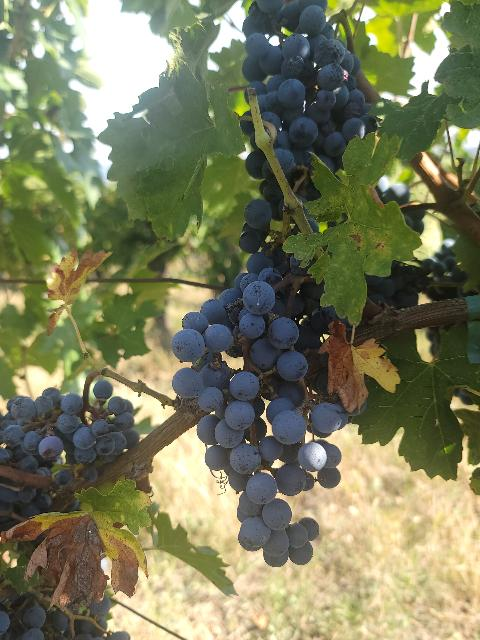grapes: (172, 280, 348, 566), (243, 0, 379, 179), (0, 380, 140, 518), (0, 589, 130, 640), (240, 122, 285, 251)
